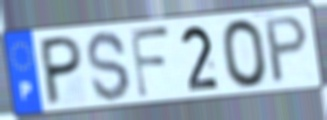2: (180, 23, 221, 93)
F: (127, 25, 173, 101)
O: (219, 16, 270, 90)
P: (263, 13, 311, 88), (40, 33, 84, 109)
S: (84, 29, 133, 104)
